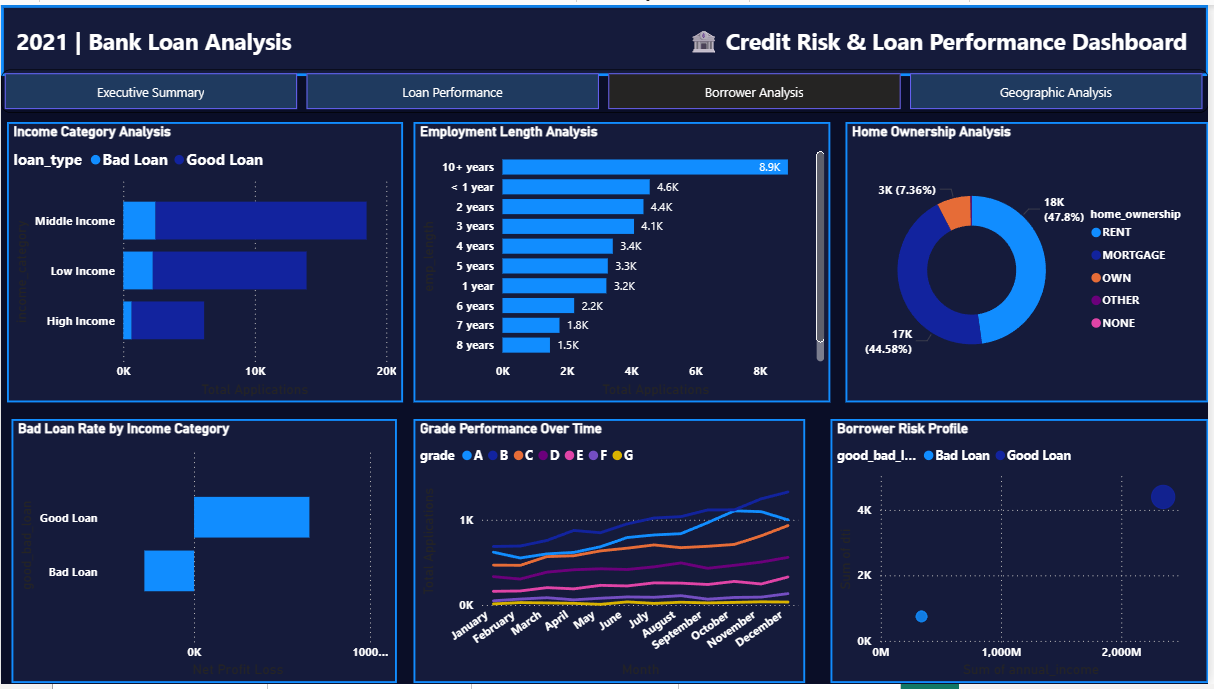

What the dashboard file says about the page in this screenshot:
{"tool":"powerbi","page":{"name":"Borrower Analysis","canvas":[1280,720],"ordinal":2},"visuals":[{"type":"shape","box":[0,0,1280.7,75.4],"z":0},{"type":"textbox","box":[10.5,15.8,1270.2,59.6],"z":1000},{"type":"barChart","title":"Income Category Analysis","fields":{"Category":["financial_loan.income_category"],"Y":["financial_loan.Total Applications"],"Series":["financial_loan.good_bad_loan"]},"box":[6.4,124.1,419.9,297.4],"z":2000},{"type":"clusteredBarChart","title":"Employment Length Analysis","fields":{"Category":["financial_loan.emp_length"],"Y":["financial_loan.Total Applications"]},"box":[437.4,124.1,442.2,297.4],"z":3000},{"type":"donutChart","title":"Home Ownership Analysis","fields":{"Category":["financial_loan.home_ownership"],"Y":["financial_loan.Total Applications"]},"box":[895.5,124.1,384.9,297.4],"z":4000},{"type":"clusteredBarChart","title":"Bad Loan Rate by Income Category","fields":{"Category":["financial_loan.good_bad_loan"],"Y":["financial_loan.Net Profit Loss"]},"box":[11.1,439,408.8,279.9],"z":5000},{"type":"lineChart","title":"Grade Performance Over Time","fields":{"Category":["financial_loan.issue_date.Variation.Date Hierarchy.Month"],"Y":["financial_loan.Total Applications"],"Series":["financial_loan.grade"]},"box":[437.4,439,415.1,279.9],"z":6000},{"type":"scatterChart","title":"Borrower Risk Profile","fields":{"Y":["Sum(financial_loan.dti)"],"Size":["Sum(financial_loan.loan_amount)"],"Series":["financial_loan.good_bad_loan"],"X":["Sum(financial_loan.annual_income)"]},"box":[879.6,439,400.8,279.9],"z":7000},{"type":"pageNavigator","box":[0,68.4,1280.4,46.1],"z":8000}]}

Visuals, with their boxes in screenshot pixels (x1, y1, x2, y2), scaled from the page's 1280x720 canvas onto the 1214x689 screenshot:
shape: box(0, 0, 1213, 72)
textbox: box(10, 15, 1213, 72)
"Income Category Analysis" barChart: box(6, 119, 404, 403)
"Employment Length Analysis" clusteredBarChart: box(415, 119, 834, 403)
"Home Ownership Analysis" donutChart: box(849, 119, 1213, 403)
"Bad Loan Rate by Income Category" clusteredBarChart: box(11, 420, 398, 688)
"Grade Performance Over Time" lineChart: box(415, 420, 809, 688)
"Borrower Risk Profile" scatterChart: box(834, 420, 1213, 688)
pageNavigator: box(0, 65, 1213, 110)
